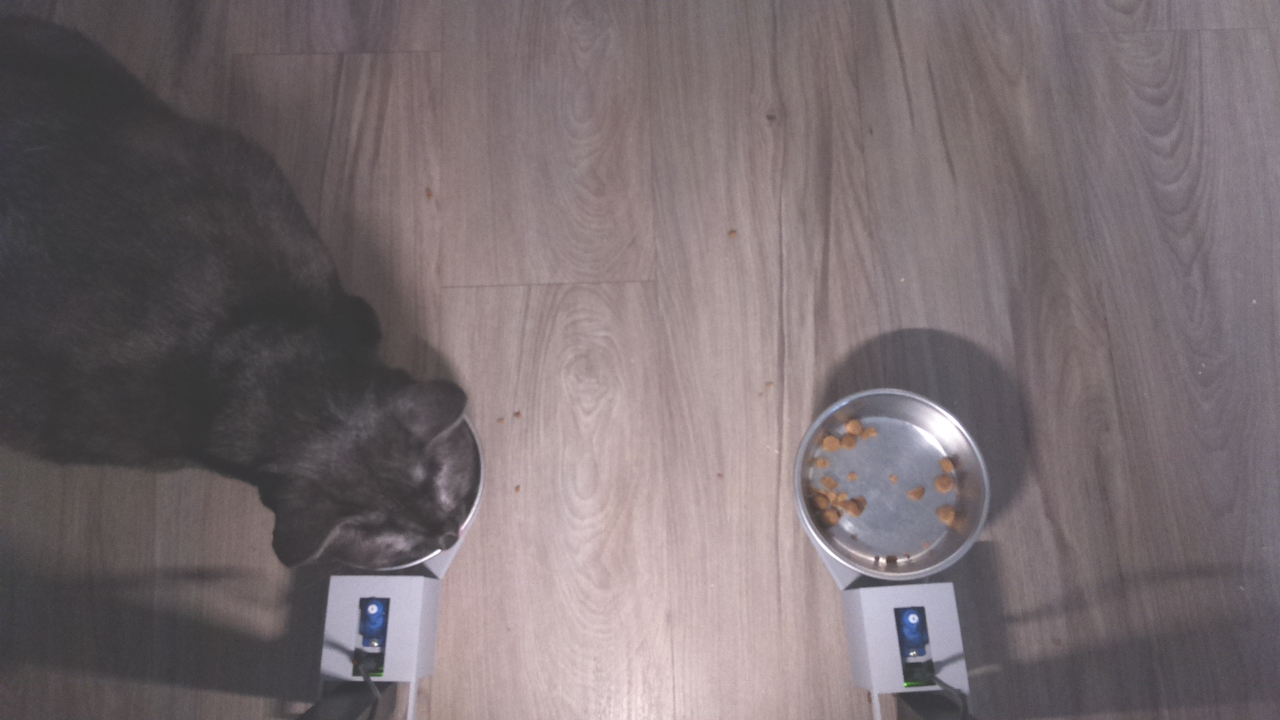open_bowl: (790, 384, 995, 587)
saki_eating: (227, 325, 505, 583)
